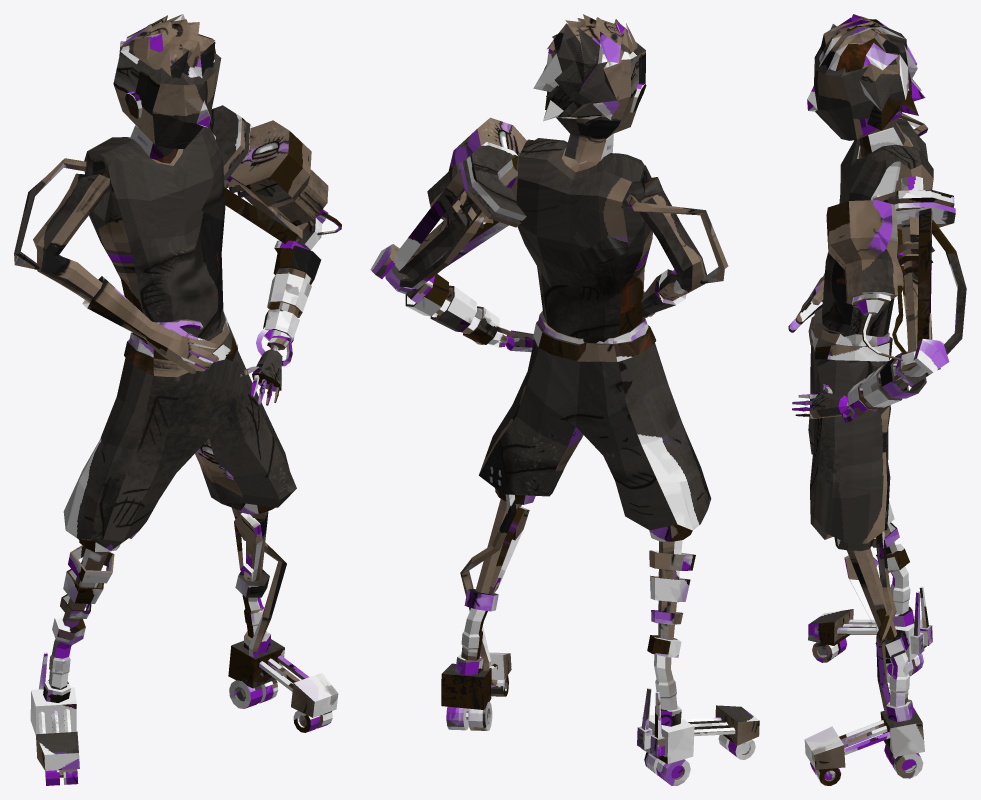
Rendered from CyborgFINALAnimation_000058.obj.
3 renders of one model, left to right at view 1: azimuth 30°, elevation 25°; view 2: azimuth 150°, elevation 25°; view 3: azimuth 270°, elevation 25°, orthographic. The views are drawn at different scales.
Visible parts, largest first — view 1: CyborgMesh_Cube.002; view 2: CyborgMesh_Cube.002; view 3: CyborgMesh_Cube.002.
Part boxes in pixels (left/top/right/bottom): CyborgMesh_Cube.002: left=14, top=14, right=341, bottom=785; CyborgMesh_Cube.002: left=370, top=14, right=759, bottom=785; CyborgMesh_Cube.002: left=788, top=14, right=966, bottom=785.
Bounding box in the file's own units: 4.62 × 9.59 × 2.21.
